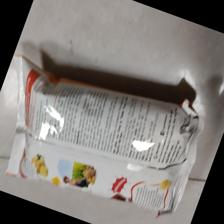Lays: (2, 54, 205, 221)
